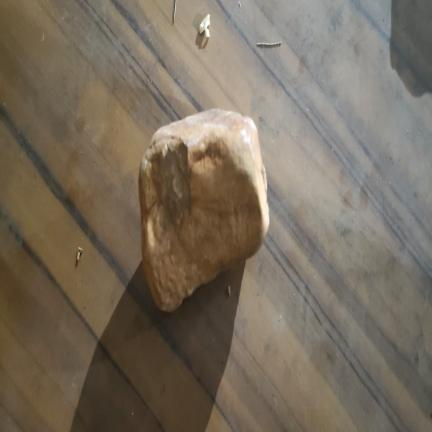Rocks: (139, 110, 268, 311)
